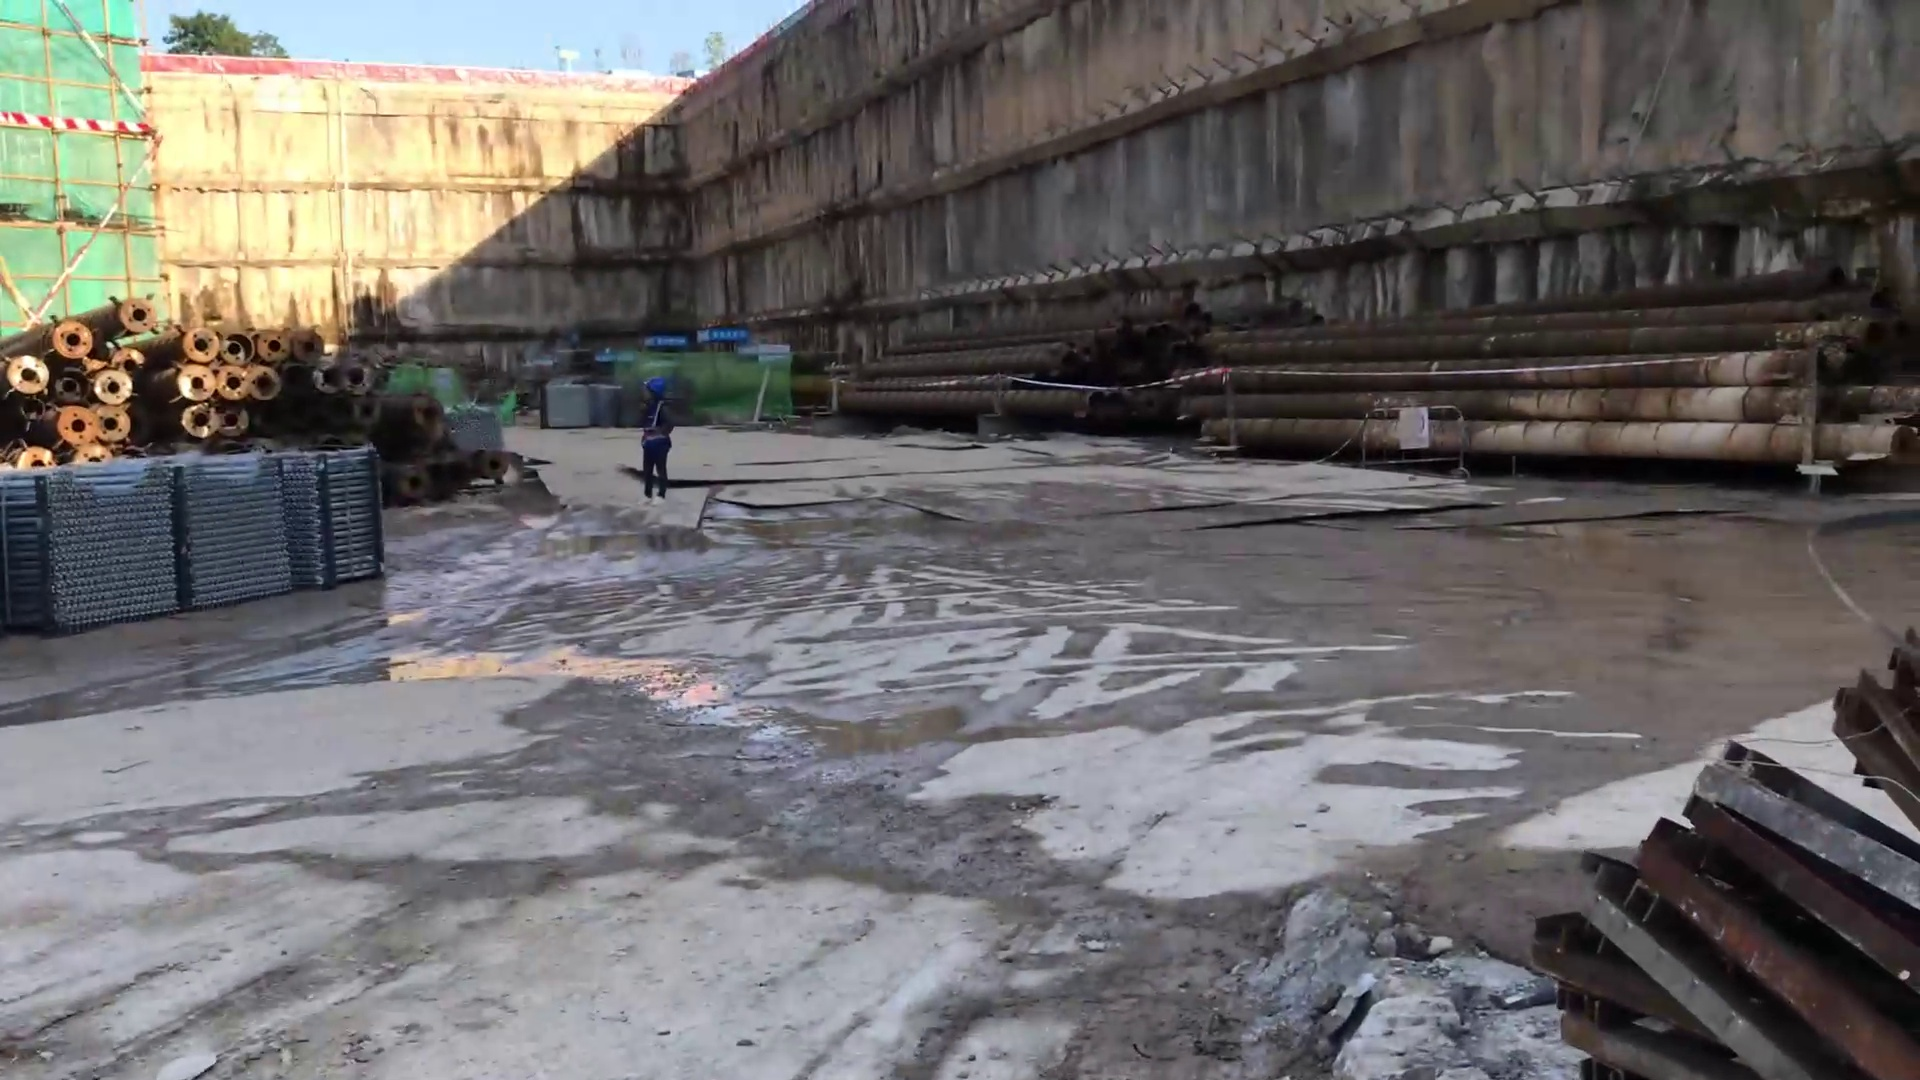helmet: (644, 380, 667, 403)
person: (633, 374, 674, 510)
scaffold: (3, 448, 174, 629), (176, 456, 291, 596), (279, 445, 390, 576)
vest: (638, 406, 670, 452)
